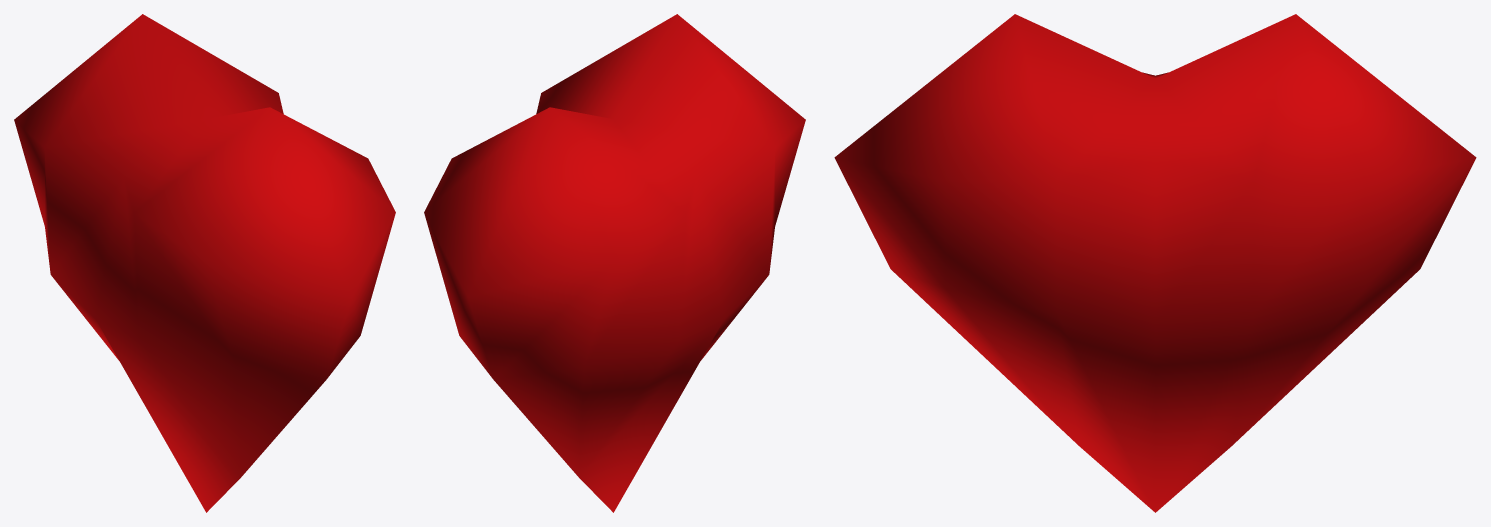
Rendered from heart.obj.
3 views of the same model, side by side, from view 1: azimuth 30°, elevation 25°; view 2: azimuth 150°, elevation 25°; view 3: azimuth 270°, elevation 25° (orthographic). The views are drawn at different scales.
Parts seen in each view (by area): view 1: Cube_Cube.001; view 2: Cube_Cube.001; view 3: Cube_Cube.001.
Part boxes in pixels (<box>): Cube_Cube.001: <box>14,14,395,512</box>; Cube_Cube.001: <box>424,14,805,512</box>; Cube_Cube.001: <box>834,14,1476,512</box>.
Size of the model in its own units: 1.42 by 2.62 by 3.05.
